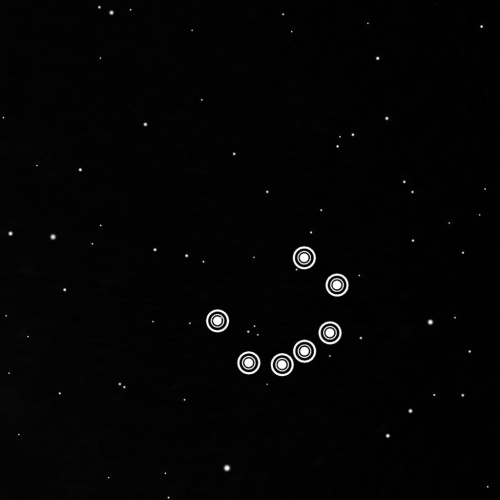corona_borealis: (202, 239, 353, 381)
